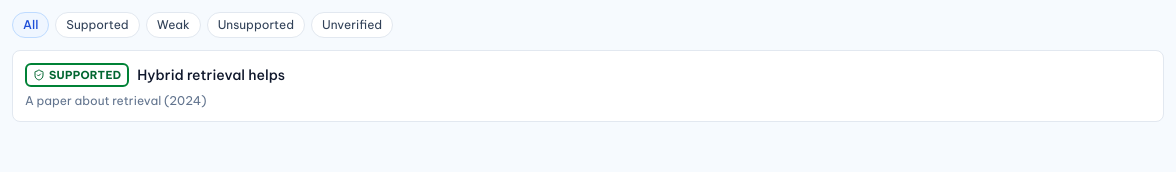
Test case: the why-this-label page › narrows the list by label and does not break when empty
Click the button "Unsupported": (256, 25) [207,12,305,38]
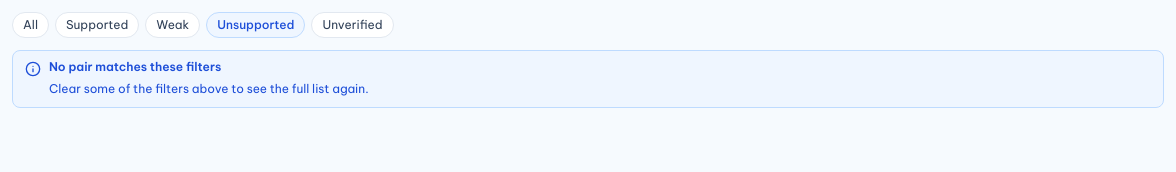
expect the text "No pair matches these filters" is shown: met, box [49,59,221,74]
Click the button "All": (30, 25) [12,12,49,38]
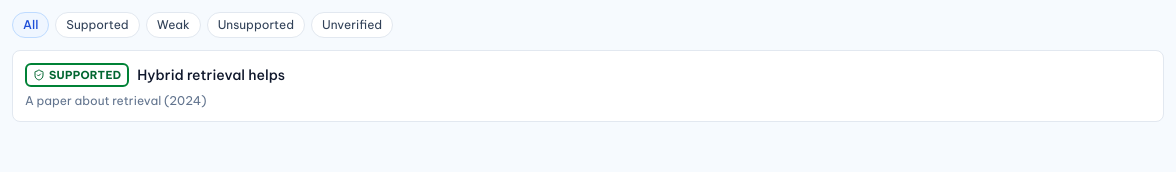
expect the text "Hybrid retrieval helps" is shown: met, box [137,65,285,85]
